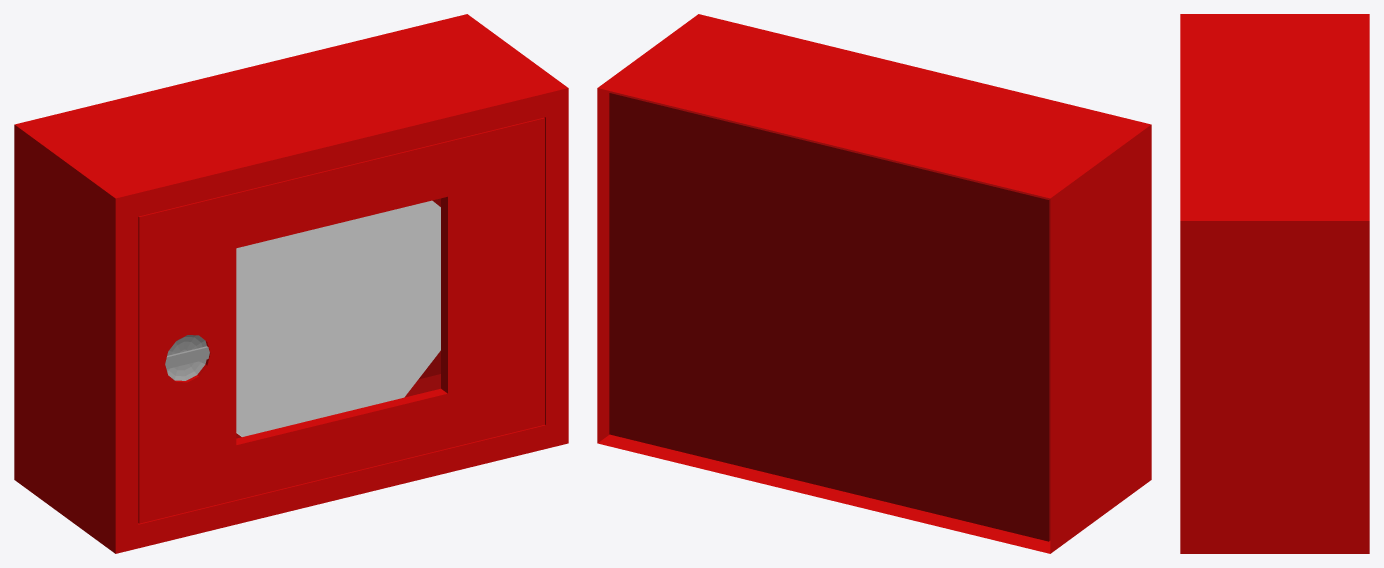
File: fire_hose.fbx
3 views of the same model, side by side, from view 1: azimuth 30°, elevation 25°; view 2: azimuth 150°, elevation 25°; view 3: azimuth 270°, elevation 25° (orthographic). The views are drawn at different scales.
Visible parts, largest first — view 1: pCube2, pCube3, pCylinder4; view 2: pCube2; view 3: pCube2.
Part boxes in pixels (left/top/right/bottom): pCube2: left=14, top=14, right=568, bottom=553; pCube3: left=138, top=117, right=544, bottom=523; pCylinder4: left=236, top=200, right=440, bottom=436; pCube2: left=597, top=14, right=1151, bottom=553; pCube2: left=1180, top=14, right=1369, bottom=553.
Size of the model in its own units: 200 by 150 by 77.35.
